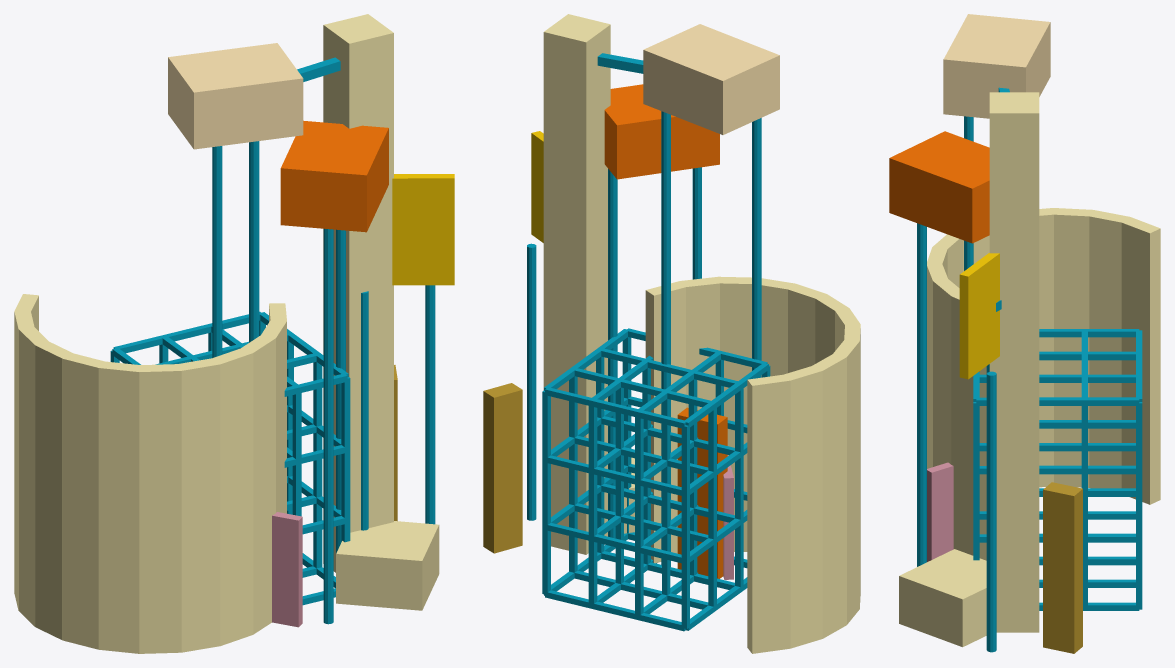
The model's file is folie_tag_018.glb.
3 renders of one model, left to right at view 1: azimuth 30°, elevation 25°; view 2: azimuth 150°, elevation 25°; view 3: azimuth 270°, elevation 25°, orthographic. The views are drawn at different scales.
Visible parts, largest first — view 1: folie_tag_018_01_curve, folie_tag_018_core, folie_tag_018_line, folie_tag_018_02_block, folie_tag_018_00_cage, folie_tag_018_03_block, folie_tag_018_09_block, folie_tag_018_05_panel, folie_tag_018_06_panel; view 2: folie_tag_018_01_curve, folie_tag_018_00_cage, folie_tag_018_core, folie_tag_018_line, folie_tag_018_02_block, folie_tag_018_03_block, folie_tag_018_07_fin, folie_tag_018_04_fin, folie_tag_018_05_panel, folie_tag_018_06_panel; view 3: folie_tag_018_01_curve, folie_tag_018_core, folie_tag_018_00_cage, folie_tag_018_03_block, folie_tag_018_02_block, folie_tag_018_line, folie_tag_018_09_block, folie_tag_018_07_fin, folie_tag_018_05_panel, folie_tag_018_06_panel.
Part boxes in pixels (box(x1,y1,x2,y2)): folie_tag_018_01_curve: box(14, 294, 286, 653); folie_tag_018_core: box(323, 14, 393, 572); folie_tag_018_line: box(212, 57, 435, 624); folie_tag_018_02_block: box(168, 43, 303, 149); folie_tag_018_00_cage: box(110, 311, 350, 605); folie_tag_018_03_block: box(280, 120, 388, 232); folie_tag_018_09_block: box(336, 521, 439, 610); folie_tag_018_05_panel: box(392, 174, 454, 285); folie_tag_018_06_panel: box(272, 512, 302, 627); folie_tag_018_01_curve: box(645, 276, 860, 653); folie_tag_018_00_cage: box(542, 328, 770, 631); folie_tag_018_core: box(543, 14, 610, 554); folie_tag_018_line: box(527, 53, 761, 566); folie_tag_018_02_block: box(643, 24, 779, 134); folie_tag_018_03_block: box(604, 84, 719, 179); folie_tag_018_07_fin: box(483, 383, 522, 553); folie_tag_018_04_fin: box(677, 407, 727, 578); folie_tag_018_05_panel: box(531, 131, 543, 242); folie_tag_018_06_panel: box(723, 455, 733, 579); folie_tag_018_01_curve: box(927, 208, 1160, 560); folie_tag_018_core: box(989, 92, 1039, 632); folie_tag_018_00_cage: box(973, 329, 1142, 610); folie_tag_018_03_block: box(889, 131, 989, 243); folie_tag_018_02_block: box(943, 14, 1050, 118); folie_tag_018_line: box(917, 87, 1009, 652); folie_tag_018_09_block: box(899, 549, 986, 647); folie_tag_018_07_fin: box(1043, 482, 1082, 653); folie_tag_018_05_panel: box(959, 253, 999, 379); folie_tag_018_06_panel: box(927, 462, 953, 561).
Bounding box in the file's own units: 9.24 × 12.74 × 6.
